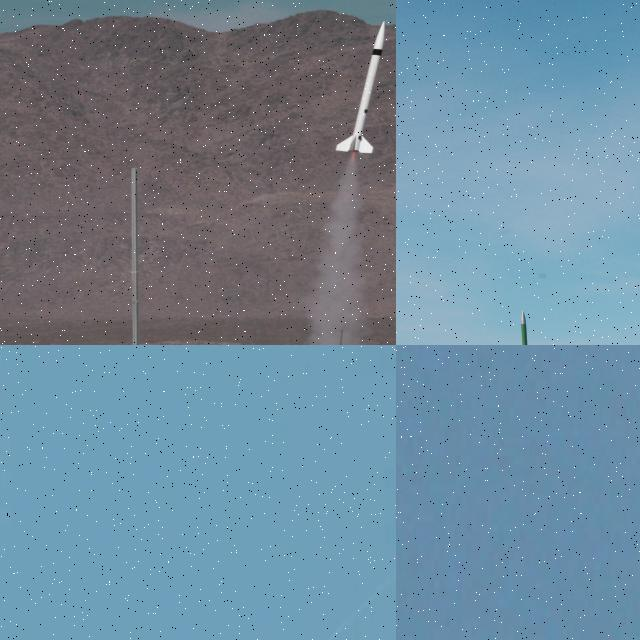Rocket: (336, 20, 386, 155), (519, 310, 537, 345)
